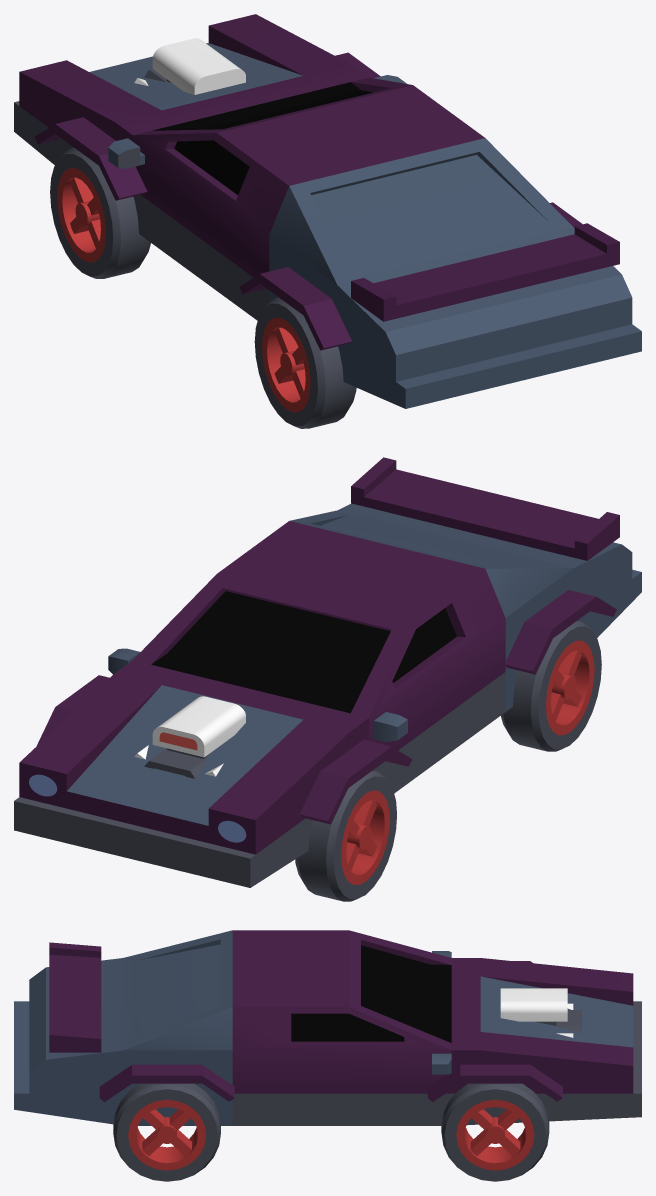
Rendered from txtxx.fbx.
3 views of the same model, one above another, from view 1: azimuth 30°, elevation 25°; view 2: azimuth 150°, elevation 25°; view 3: azimuth 270°, elevation 25° (orthographic). The views are drawn at different scales.
Visible parts, largest first — view 1: trunk_default_12, windshield_default_3, hood_square_4, detail_spoiler_27, wheel_smallSports_19, wheel_smallSports_18, detail_engine_5, detail_fenderSquare_21, detail_fenderSquare_22, detail_mirror_25; view 2: windshield_default_3, hood_square_4, trunk_default_12, detail_spoiler_27, wheel_smallSports_18, wheel_smallSports_19, detail_engine_5, detail_fenderSquare_22, detail_fenderSquare_21, detail_fenderSquare_23, detail_mirror_25; view 3: windshield_default_3, trunk_default_12, hood_square_4, wheel_smallSports_15, wheel_smallSports_14, detail_spoiler_27, detail_engine_5, detail_fenderSquare_24, detail_fenderSquare_23, detail_mirror_26.
Part boxes in pixels (x1,y1,x2,y2): trunk_default_12: (269, 138, 641, 408); windshield_default_3: (132, 77, 484, 320); hood_square_4: (14, 14, 368, 164); detail_spoiler_27: (351, 223, 619, 321); wheel_smallSports_19: (254, 297, 356, 428); wheel_smallSports_18: (50, 148, 150, 278); detail_engine_5: (134, 38, 245, 94); detail_fenderSquare_21: (240, 267, 351, 350); detail_fenderSquare_22: (35, 117, 147, 200); detail_mirror_25: (108, 138, 144, 168); windshield_default_3: (133, 521, 505, 793); hood_square_4: (14, 660, 368, 887); trunk_default_12: (289, 503, 641, 711); detail_spoiler_27: (351, 457, 619, 560); wheel_smallSports_18: (295, 770, 396, 901); wheel_smallSports_19: (501, 620, 601, 751); detail_engine_5: (134, 696, 245, 778); detail_fenderSquare_22: (299, 739, 411, 824); detail_fenderSquare_21: (504, 590, 616, 674); detail_fenderSquare_23: (36, 675, 109, 746); detail_mirror_25: (373, 712, 407, 742); windshield_default_3: (232, 930, 451, 1125); trunk_default_12: (14, 930, 232, 1125); hood_square_4: (451, 958, 641, 1125); wheel_smallSports_15: (441, 1083, 549, 1181); wheel_smallSports_14: (113, 1083, 220, 1181); detail_spoiler_27: (49, 942, 101, 1052); detail_engine_5: (500, 988, 581, 1037); detail_fenderSquare_24: (99, 1064, 234, 1102); detail_fenderSquare_23: (427, 1064, 562, 1102); detail_mirror_26: (432, 1053, 451, 1074).
Size of the model in its own units: 12.4 by 8.06 by 28.7.
